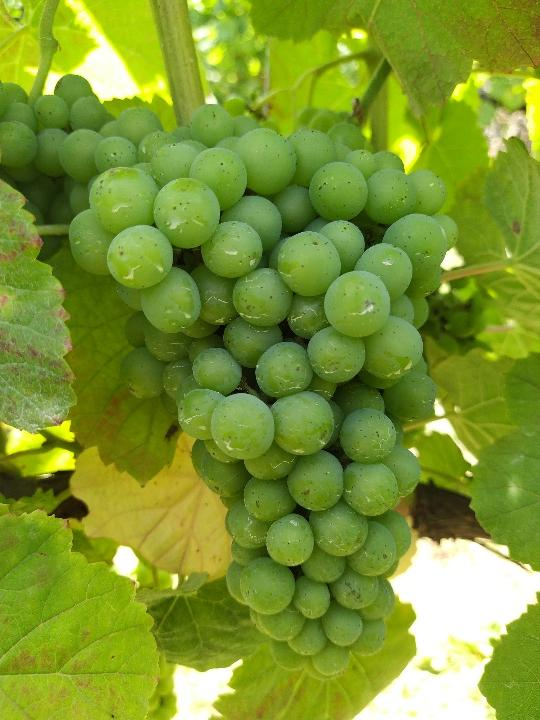grape: (65, 117, 464, 681)
